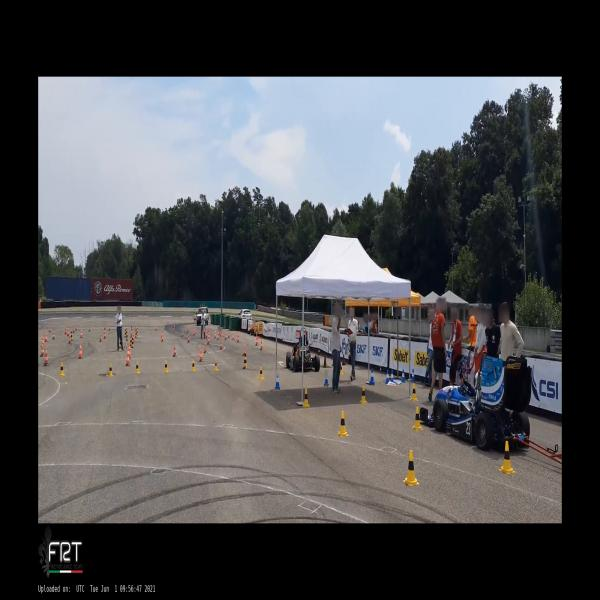blue_cone: (369, 369, 375, 385), (275, 372, 280, 388), (385, 369, 390, 384), (324, 371, 329, 386), (401, 369, 406, 383), (411, 368, 415, 381), (390, 370, 393, 382)
large_orange_cone: (42, 348, 50, 366), (126, 348, 131, 366), (172, 343, 178, 357), (78, 343, 83, 359), (199, 346, 204, 362), (40, 342, 45, 358), (203, 342, 208, 354), (40, 335, 45, 347), (129, 344, 131, 360)
unknown_cone: (242, 352, 249, 370), (323, 355, 327, 367), (342, 354, 346, 365)
yellow_cone: (499, 441, 516, 474), (404, 450, 419, 486), (337, 411, 349, 437), (412, 406, 423, 430), (410, 384, 419, 402), (359, 386, 368, 404), (303, 388, 310, 408), (59, 362, 65, 377), (258, 366, 264, 380), (134, 361, 140, 374), (191, 359, 196, 372), (108, 364, 113, 376), (340, 362, 344, 375), (214, 359, 218, 371), (164, 360, 168, 372)
